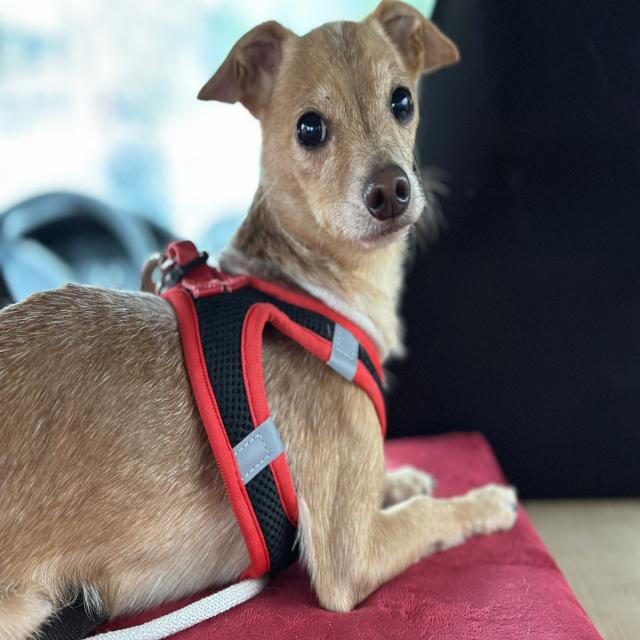chihuahua_dog: (189, 0, 479, 276)
